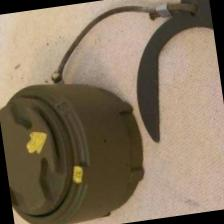M14: (0, 62, 154, 224)
